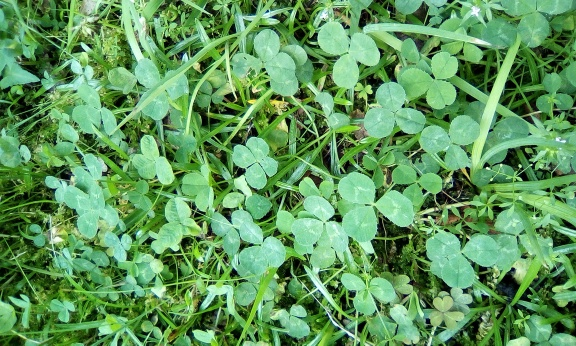4leaf: (232, 137, 279, 190)
